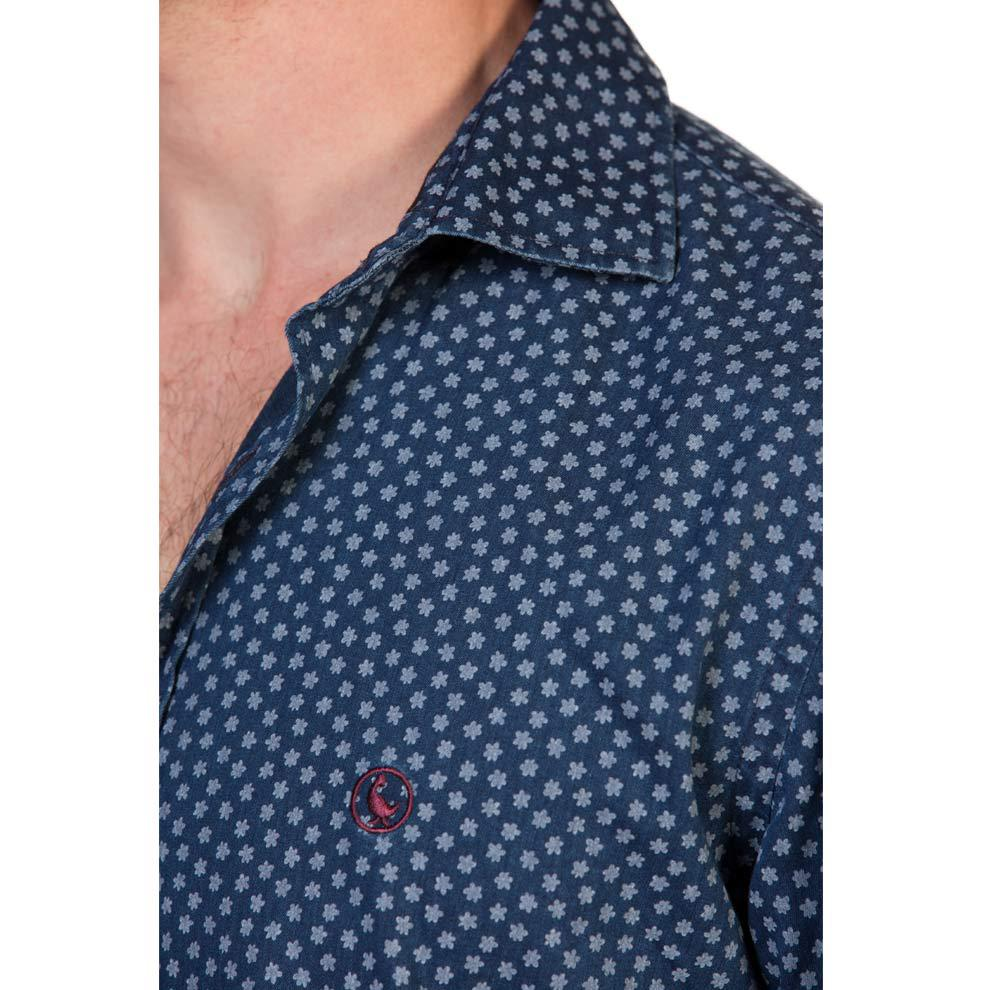teeshirt: (161, 28, 835, 990)
